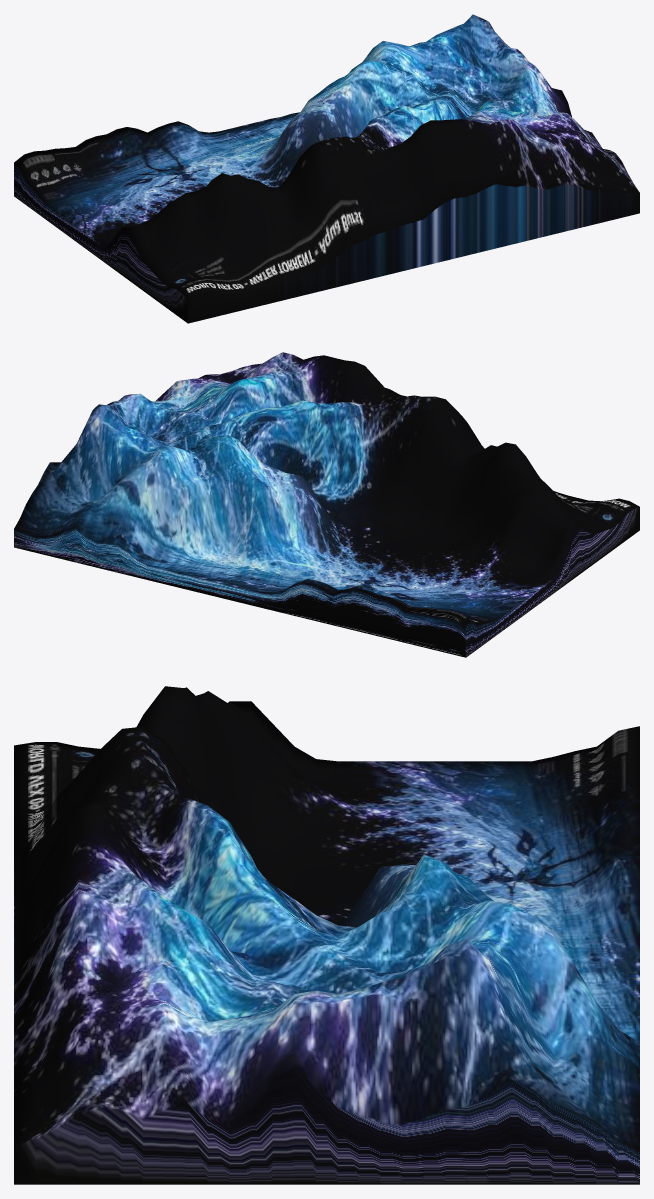
File: WORLD_VFX_09_Water_Torrent.glb
3 renders of one model, top to bottom at view 1: azimuth 30°, elevation 25°; view 2: azimuth 150°, elevation 25°; view 3: azimuth 270°, elevation 25°, orthographic. The views are drawn at different scales.
Visible parts, largest first — view 1: WORLD_VFX_09_Water_Torrent; view 2: WORLD_VFX_09_Water_Torrent; view 3: WORLD_VFX_09_Water_Torrent.
Part boxes in pixels (x1,y1,x2,y2): WORLD_VFX_09_Water_Torrent: (14, 14, 639, 323); WORLD_VFX_09_Water_Torrent: (14, 352, 639, 657); WORLD_VFX_09_Water_Torrent: (14, 686, 639, 1184).
Bounding box in the file's own units: 2 × 0.51 × 1.33.
1 material, 1 textured.
